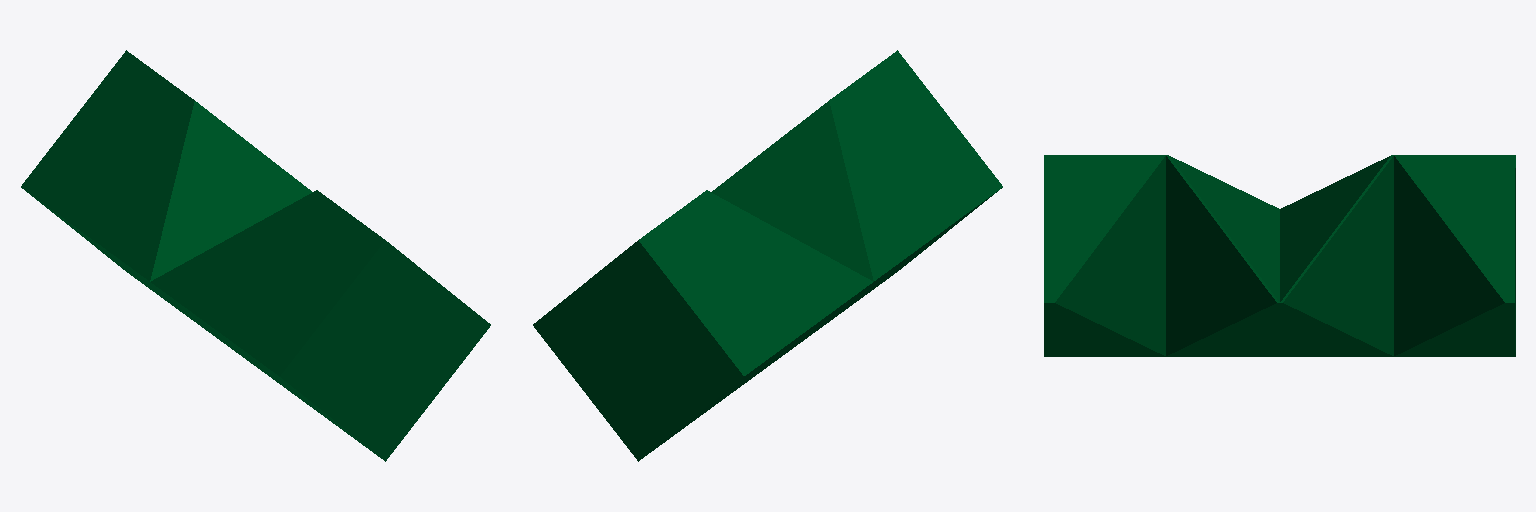
URDF robot description (obj_3):
<robot name="obj_3" version="1.0">
  <link name="link_3">
    <collision name="3-collision.001">
      <origin rpy="0.78540 0.00000 1.57063" xyz="-0.42301 0.17988 0.27714"/>
      <geometry>
        <mesh filename="../meshes/obj/3-collision.001.obj" scale="0.00500 0.00500 0.00500"/>
      </geometry>
    </collision>
    <collision name="3-collision.002">
      <origin rpy="0.78540 0.00000 1.57063" xyz="-0.42297 0.31892 0.27712"/>
      <geometry>
        <mesh filename="../meshes/obj/3-collision.002.obj" scale="0.00500 0.00500 0.00500"/>
      </geometry>
    </collision>
    <collision name="3-collision.003">
      <origin rpy="0.78540 0.00000 1.57063" xyz="-0.42295 0.42785 0.27712"/>
      <geometry>
        <mesh filename="../meshes/obj/3-collision.003.obj" scale="0.00500 0.00500 0.00500"/>
      </geometry>
    </collision>
    <collision name="3-collision.004">
      <origin rpy="0.78540 0.00000 1.57063" xyz="-0.44073 0.22911 0.22407"/>
      <geometry>
        <mesh filename="../meshes/obj/3-collision.004.obj" scale="0.00500 0.00500 0.00500"/>
      </geometry>
    </collision>
    <collision name="3-collision.005">
      <origin rpy="0.78540 0.00000 1.57063" xyz="-0.44072 0.29983 0.22407"/>
      <geometry>
        <mesh filename="../meshes/obj/3-collision.005.obj" scale="0.00500 0.00500 0.00500"/>
      </geometry>
    </collision>
    <collision name="3-collision.006">
      <origin rpy="0.78540 0.00000 1.57063" xyz="-0.44069 0.44696 0.22407"/>
      <geometry>
        <mesh filename="../meshes/obj/3-collision.006.obj" scale="0.00500 0.00500 0.00500"/>
      </geometry>
    </collision>
    <collision name="3-collision.007">
      <origin rpy="0.78540 0.00000 1.57063" xyz="-0.44068 0.51768 0.22407"/>
      <geometry>
        <mesh filename="../meshes/obj/3-collision.007.obj" scale="0.00500 0.00500 0.00500"/>
      </geometry>
    </collision>
    <collision name="3-collision.008">
      <origin rpy="0.78540 0.00000 1.57063" xyz="-0.42294 0.56688 0.27714"/>
      <geometry>
        <mesh filename="../meshes/obj/3-collision.008.obj" scale="0.00500 0.00500 0.00500"/>
      </geometry>
    </collision>
    <collision name="3-collision.009">
      <origin rpy="0.78540 0.00000 1.57063" xyz="-0.47596 0.59839 0.22409"/>
      <geometry>
        <mesh filename="../meshes/obj/3-collision.009.obj" scale="0.00500 0.00500 0.00500"/>
      </geometry>
    </collision>
    <collision name="3-collision.010">
      <origin rpy="0.78540 0.00000 1.57063" xyz="-0.47598 0.33803 0.25937"/>
      <geometry>
        <mesh filename="../meshes/obj/3-collision.010.obj" scale="0.00500 0.00500 0.00500"/>
      </geometry>
    </collision>
    <collision name="3-collision.011">
      <origin rpy="0.78540 0.00000 1.57063" xyz="-0.47597 0.40875 0.25937"/>
      <geometry>
        <mesh filename="../meshes/obj/3-collision.011.obj" scale="0.00500 0.00500 0.00500"/>
      </geometry>
    </collision>
    <collision name="3-collision.012">
      <origin rpy="0.78540 0.00000 1.57063" xyz="-0.51841 0.50700 0.28771"/>
      <geometry>
        <mesh filename="../meshes/obj/3-collision.012.obj" scale="0.00500 0.00500 0.00500"/>
      </geometry>
    </collision>
    <collision name="3-collision.013">
      <origin rpy="0.78540 0.00000 1.57063" xyz="-0.51846 0.23980 0.28771"/>
      <geometry>
        <mesh filename="../meshes/obj/3-collision.013.obj" scale="0.00500 0.00500 0.00500"/>
      </geometry>
    </collision>
    <collision name="3-collision.014">
      <origin rpy="0.78540 0.00000 1.57063" xyz="-0.51679 0.37340 0.15882"/>
      <geometry>
        <mesh filename="../meshes/obj/3-collision.014.obj" scale="0.00500 0.00500 0.00500"/>
      </geometry>
    </collision>
    <collision name="3-collision.015">
      <origin rpy="0.78540 0.00000 1.57063" xyz="-0.42301 0.17988 0.17104"/>
      <geometry>
        <mesh filename="../meshes/obj/3-collision.015.obj" scale="0.00500 0.00500 0.00500"/>
      </geometry>
    </collision>
    <collision name="3-collision.016">
      <origin rpy="0.78540 0.00000 1.57063" xyz="-0.47603 0.14839 0.22409"/>
      <geometry>
        <mesh filename="../meshes/obj/3-collision.016.obj" scale="0.00500 0.00500 0.00500"/>
      </geometry>
    </collision>
    <collision name="3-collision.017">
      <origin rpy="0.78540 0.00000 1.57063" xyz="-0.42294 0.56688 0.17104"/>
      <geometry>
        <mesh filename="../meshes/obj/3-collision.017.obj" scale="0.00500 0.00500 0.00500"/>
      </geometry>
    </collision>
    <collision name="3-collision.018">
      <origin rpy="0.78540 0.00000 1.57063" xyz="-0.41239 0.37339 0.18162"/>
      <geometry>
        <mesh filename="../meshes/obj/3-collision.018.obj" scale="0.00500 0.00500 0.00500"/>
      </geometry>
    </collision>
    <collision name="3-collision.019">
      <origin rpy="0.78540 0.00000 1.57063" xyz="-0.51141 0.30171 0.29475"/>
      <geometry>
        <mesh filename="../meshes/obj/3-collision.019.obj" scale="0.00500 0.00500 0.00500"/>
      </geometry>
    </collision>
    <collision name="3-collision.020">
      <origin rpy="0.78540 0.00000 1.57063" xyz="-0.51138 0.44509 0.29475"/>
      <geometry>
        <mesh filename="../meshes/obj/3-collision.020.obj" scale="0.00500 0.00500 0.00500"/>
      </geometry>
    </collision>
    <inertial>
      <inertia ixx="0.00012" ixy="-0.00008" ixz="0.00000" iyy="0.00012" iyz="-0.00000" izz="0.00020"/>
      <origin rpy="0.00000 0.00000 0.00000" xyz="-0.48692 0.37339 0.21863"/>
      <mass value="0.01000"/>
    </inertial>
    <visual name="3">
      <material name="turnarrow_bluish_green"/>
      <origin rpy="0.78540 0.00000 1.57063" xyz="-0.44708 0.37339 0.23854"/>
      <geometry>
        <mesh filename="../meshes/obj/6 part puzzle cube.002.obj" scale="0.00500 0.00500 0.00500"/>
      </geometry>
    </visual>
  </link>
  <material name="turnarrow_bluish_green">
    <color rgba="0.00000 0.34118 0.16863 1.00000"/>
  </material>
</robot>

--- Render facts (derived) ---
The picture shows the robot from 3 angles, left to right: view 1: azimuth 30°, elevation 25°; view 2: azimuth 150°, elevation 25°; view 3: azimuth 270°, elevation 25°; orthographic projection.
Model obj_3 with 1 links and 0 joints (none), rooted at link_3, posed all joints at 0.
Links seen in each view (by area): view 1: link_3; view 2: link_3; view 3: link_3.
Link boxes in pixels (x1,y1,x2,y2): link_3: (21,50,490,461); link_3: (533,50,1002,461); link_3: (1044,155,1515,356).
Bounding box of the posed robot: 0.2122 × 0.45 × 0.2121 m (x, y, z).
1 mesh visuals loaded from 1 distinct referenced files (1 OBJ).